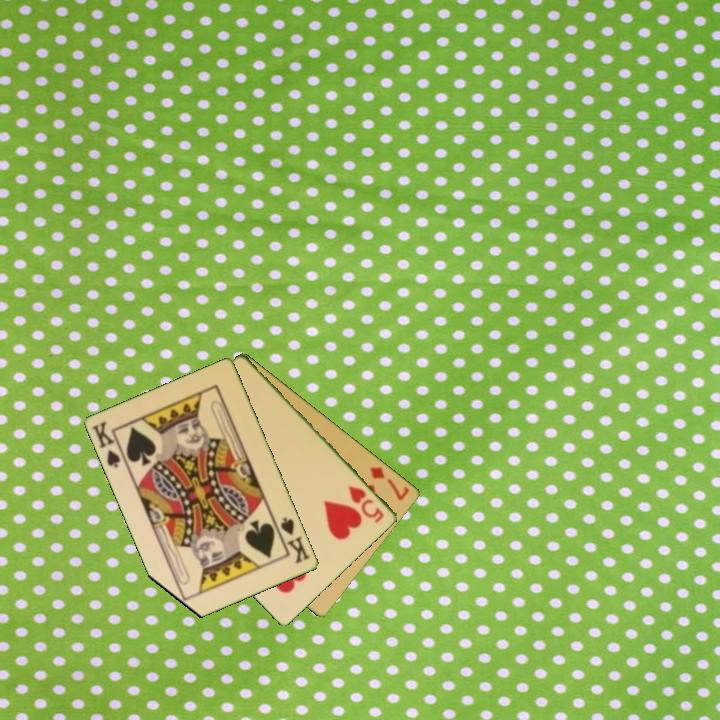5h: (345, 482, 387, 526)
7d: (367, 463, 413, 503)
Ks: (89, 418, 130, 471), (273, 514, 313, 567)
